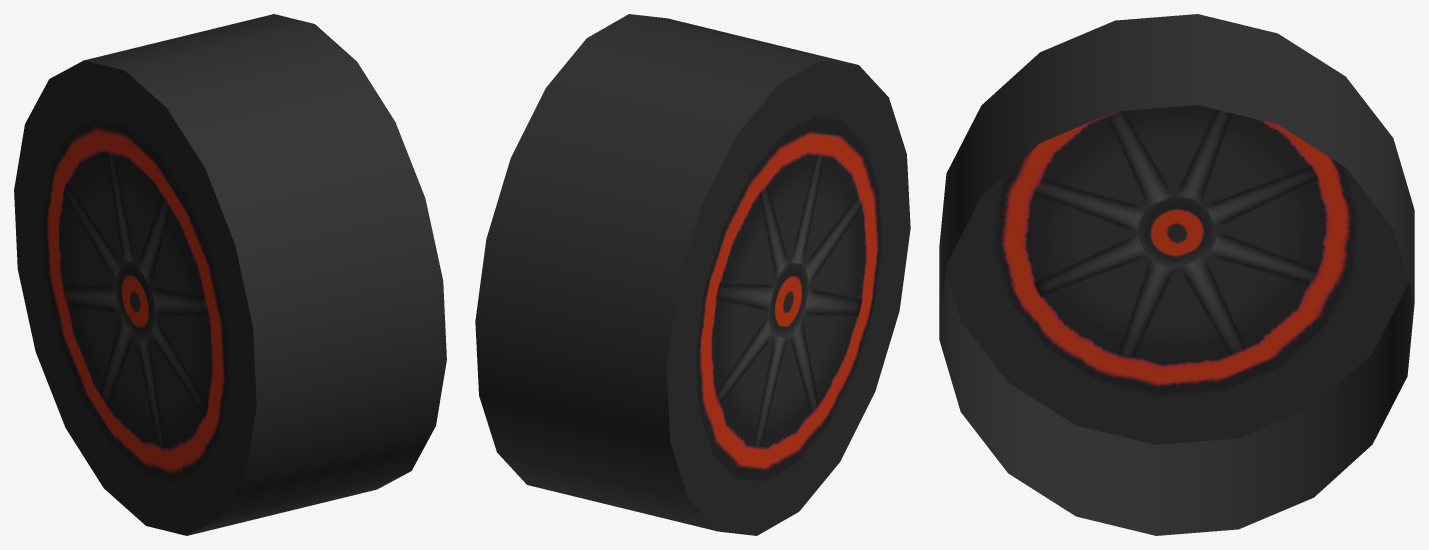
The model's file is wheel 2.FBX.
3 views of the same model, side by side, from view 1: azimuth 30°, elevation 25°; view 2: azimuth 150°, elevation 25°; view 3: azimuth 270°, elevation 25° (orthographic). The views are drawn at different scales.
Parts seen in each view (by area): view 1: Cylinder006; view 2: Cylinder006; view 3: Cylinder006.
Part boxes in pixels (box(x1,y1,x2,y2)): Cylinder006: box(14, 14, 446, 535); Cylinder006: box(475, 14, 910, 535); Cylinder006: box(939, 14, 1414, 535).
Bounding box in the file's own units: 239 × 527 × 527.
1 material, 1 textured.
